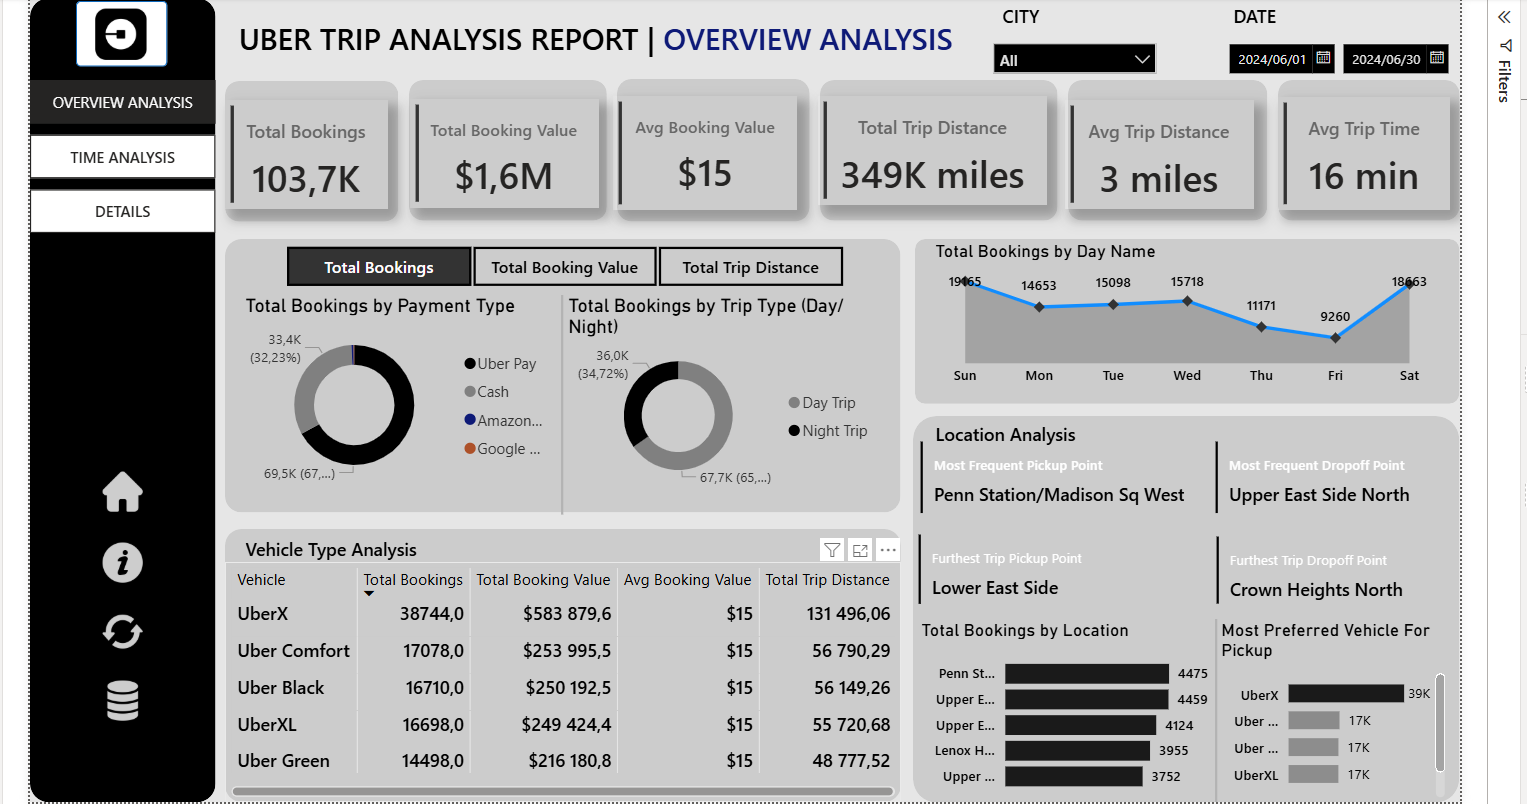

The page's visual inventory and layout, read from the dashboard file:
{"tool":"powerbi","page":{"name":"OVERVIEW ANALYSIS","canvas":[1280,720],"ordinal":0},"visuals":[{"type":"shape","box":[174.9,74.6,155.3,126],"z":0},{"type":"textbox","box":[166.2,12.5,680,48.8],"z":1000},{"type":"shape","box":[0,0,166.3,720.2],"z":2000},{"type":"shape","box":[339.4,73.4,177.3,126],"z":3000},{"type":"shape","box":[525.9,72.5,172.5,127.5],"z":4000},{"type":"shape","box":[707.6,73.3,212.8,126.1],"z":5000},{"type":"shape","box":[929.6,73.4,178.5,126],"z":6000},{"type":"shape","box":[1117.4,73.4,162.6,126],"z":7000},{"type":"cardVisual","fields":{"Data":["uber_trip_details.Total Bookings"]},"box":[174.9,91.7,145.5,97.8],"z":8000},{"type":"cardVisual","fields":{"Data":["uber_trip_details.Total Booking Value"]},"box":[339.9,90.5,168.8,97.8],"z":9000},{"type":"cardVisual","fields":{"Data":["uber_trip_details.Average Booking Value"]},"box":[522.3,87.7,165.4,102.3],"z":10000},{"type":"cardVisual","fields":{"Data":["uber_trip_details.Total Trip Distance"]},"box":[705.6,88,205.4,97.8],"z":11000},{"type":"shape","box":[175,216.2,605,245],"z":12000},{"type":"cardVisual","fields":{"Data":["uber_trip_details.Average Trip Distance"]},"box":[927.2,91,168.8,97.8],"z":13000},{"type":"cardVisual","fields":{"Data":["uber_trip_details.Average Trip Time"]},"box":[1117.7,88.8,154.1,101.5],"z":14000},{"type":"slicer","fields":{"Values":["Measure Selector.Measure Selector"]},"box":[203.8,216.2,547.5,48.8],"z":15000},{"type":"donutChart","fields":{"Y":["uber_trip_details.Total Booking Value"],"Category":["uber_trip_details.payment_type"]},"box":[188.3,265.4,288.6,179.8],"z":16000},{"type":"donutChart","fields":{"Y":["uber_trip_details.Total Booking Value"],"Category":["uber_trip_details.Trip Type (Day/ Night)"]},"box":[476.9,265.4,287.4,179.8],"z":17000},{"type":"shape","box":[174.9,475.7,605.3,244.6],"z":18000},{"type":"slicer","fields":{"Values":["location_table.city"]},"box":[852.5,30,166.2,46.2],"z":19000},{"type":"slicer","fields":{"Values":["Calender Table.Date"]},"box":[1060,30,216.2,42.5],"z":20000},{"type":"textbox","box":[866.2,0,88.8,37.5],"z":21000},{"type":"textbox","box":[1072.5,0,101.2,37.5],"z":22000},{"type":"tableEx","fields":{"Values":["uber_trip_details.vehicle","uber_trip_details.Total Bookings","uber_trip_details.Total Booking Value","uber_trip_details.Average Booking Value","uber_trip_details.Total Trip Distance Measure"]},"box":[175,505,605,215],"z":23000},{"type":"textbox","box":[188.3,476.9,173.6,36.7],"z":24000},{"type":"shape","box":[792.5,216.2,487.5,147.5],"z":25000},{"type":"areaChart","fields":{"Y":["uber_trip_details.Total Bookings"],"Category":["uber_trip_details.Day Name Abbre"]},"box":[805.8,216.4,461,139.4],"z":26000},{"type":"shape","box":[791.2,374.2,489.1,346.1],"z":27000},{"type":"cardVisual","fields":{"Data":["Min(location_table.location)"]},"box":[792.4,392.5,265.4,74.6],"z":28000},{"type":"textbox","box":[805.8,374.2,173.6,36.7],"z":29000},{"type":"cardVisual","fields":{"Data":["Min(location_table.location)"]},"box":[1056.5,392.5,222.6,74.6],"z":30000},{"type":"cardVisual","fields":{"Data":["Min(location_table.location)"]},"box":[791.2,475.7,265.4,72.1],"z":31000},{"type":"cardVisual","fields":{"Data":["Min(location_table.location)"]},"box":[1057.8,476.9,222.6,70.9],"z":32000},{"type":"barChart","fields":{"Category":["location_table.location"],"Y":["uber_trip_details.Total Bookings"]},"box":[793.1,555.7,269,164.7],"z":33000},{"type":"barChart","title":"Most Preferred Vehicle For Pickup ","fields":{"Category":["uber_trip_details.vehicle"],"Y":["uber_trip_details.Number Of Times Vehicle Was Booked"]},"box":[1062.1,555.7,209.9,164.7],"z":34000},{"type":"shape","box":[466.7,265.6,20,196.7],"z":35000},{"type":"shape","box":[1052,556,20,164],"z":36000},{"type":"image","box":[59.9,598,46.5,61.1],"z":36001},{"type":"image","box":[59.9,410.9,46.5,61.1],"z":36002},{"type":"image","box":[59.9,474.5,46.5,61.1],"z":36003},{"type":"image","box":[59.9,536.8,46.5,61.1],"z":36004},{"type":"pageNavigator","box":[0,73.4,166.3,139.4],"z":36005},{"type":"shape","box":[41.6,2.4,81.9,58.7],"z":36006},{"type":"image","box":[39.1,4.9,84.4,56.3],"z":36007}]}

Visuals, with their boxes on the page's 1280x720 design canvas (x1, y1, x2, y2). These are canvas units, not pixel positions in the 1527x804 screenshot, which may show the page scaled, cropped or inside an application window:
shape: detection(175, 75, 330, 201)
textbox: detection(166, 12, 846, 61)
shape: detection(0, 0, 166, 720)
shape: detection(339, 73, 517, 199)
shape: detection(526, 72, 698, 200)
shape: detection(708, 73, 920, 199)
shape: detection(930, 73, 1108, 199)
shape: detection(1117, 73, 1280, 199)
cardVisual - uber_trip_details.Total Bookings: detection(175, 92, 320, 190)
cardVisual - uber_trip_details.Total Booking Value: detection(340, 90, 509, 188)
cardVisual - uber_trip_details.Average Booking Value: detection(522, 88, 688, 190)
cardVisual - uber_trip_details.Total Trip Distance: detection(706, 88, 911, 186)
shape: detection(175, 216, 780, 461)
cardVisual - uber_trip_details.Average Trip Distance: detection(927, 91, 1096, 189)
cardVisual - uber_trip_details.Average Trip Time: detection(1118, 89, 1272, 190)
slicer - Measure Selector.Measure Selector: detection(204, 216, 751, 265)
donutChart - uber_trip_details.Total Booking Value x uber_trip_details.payment_type: detection(188, 265, 477, 445)
donutChart - uber_trip_details.Total Booking Value x uber_trip_details.Trip Type (Day/ Night): detection(477, 265, 764, 445)
shape: detection(175, 476, 780, 720)
slicer - location_table.city: detection(852, 30, 1019, 76)
slicer - Calender Table.Date: detection(1060, 30, 1276, 72)
textbox: detection(866, 0, 955, 38)
textbox: detection(1072, 0, 1174, 38)
tableEx - uber_trip_details.vehicle x uber_trip_details.Total Bookings: detection(175, 505, 780, 720)
textbox: detection(188, 477, 362, 514)
shape: detection(792, 216, 1280, 364)
areaChart - uber_trip_details.Total Bookings x uber_trip_details.Day Name Abbre: detection(806, 216, 1267, 356)
shape: detection(791, 374, 1280, 720)
cardVisual - Min(location_table.location): detection(792, 392, 1058, 467)
textbox: detection(806, 374, 979, 411)
cardVisual - Min(location_table.location): detection(1056, 392, 1279, 467)
cardVisual - Min(location_table.location): detection(791, 476, 1057, 548)
cardVisual - Min(location_table.location): detection(1058, 477, 1280, 548)
barChart - location_table.location x uber_trip_details.Total Bookings: detection(793, 556, 1062, 720)
"Most Preferred Vehicle For Pickup " barChart: detection(1062, 556, 1272, 720)
shape: detection(467, 266, 487, 462)
shape: detection(1052, 556, 1072, 720)
image: detection(60, 598, 106, 659)
image: detection(60, 411, 106, 472)
image: detection(60, 474, 106, 536)
image: detection(60, 537, 106, 598)
pageNavigator: detection(0, 73, 166, 213)
shape: detection(42, 2, 124, 61)
image: detection(39, 5, 124, 61)
